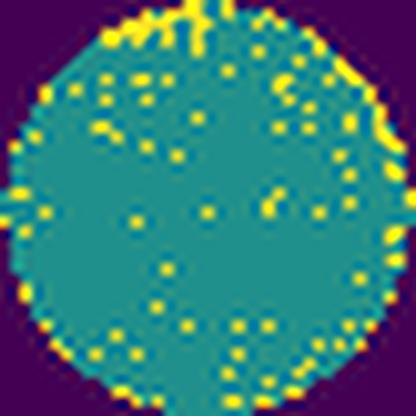Edge-Loc: (94, 0, 218, 66), (334, 56, 404, 157)
